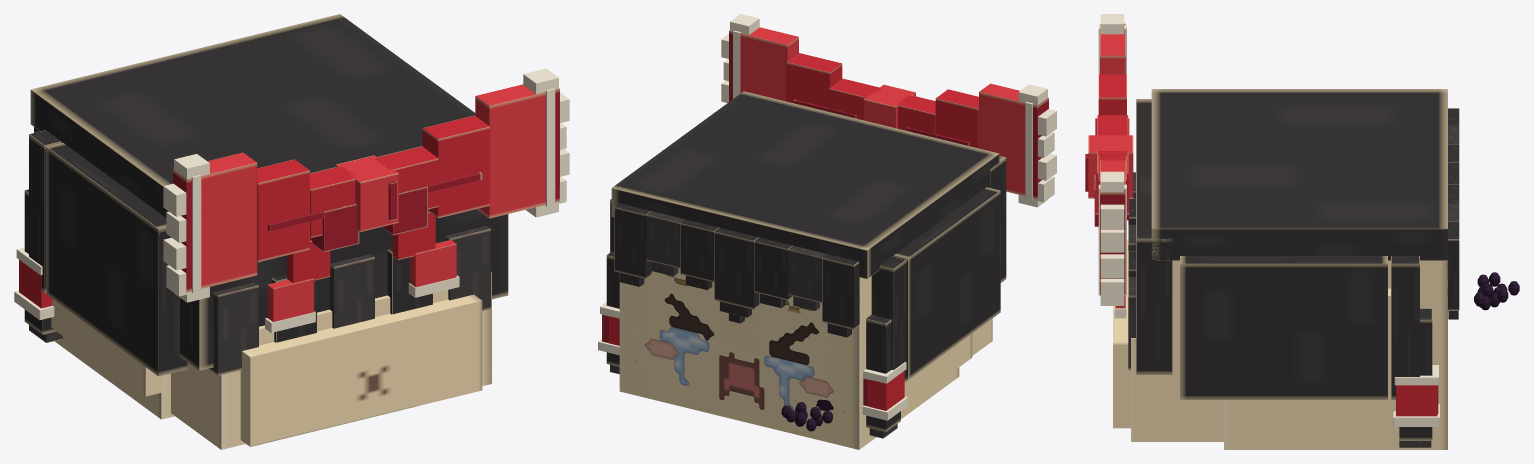
Rendered from leak_reimu_2.obj.
3 views of the same model, side by side, from view 1: azimuth 30°, elevation 25°; view 2: azimuth 150°, elevation 25°; view 3: azimuth 270°, elevation 25° (orthographic). The views are drawn at different scales.
Parts seen in each view (by area): view 1: leak_reimu_2; view 2: leak_reimu_2; view 3: leak_reimu_2.
Part boxes in pixels (x1=…): leak_reimu_2: x1=14, y1=14, x2=569, y2=449; leak_reimu_2: x1=598, y1=14, x2=1056, y2=449; leak_reimu_2: x1=1085, y1=14, x2=1519, y2=449.
Bounding box in the file's own units: 16.28 × 12.24 × 16.83.
1 material, 1 textured.
